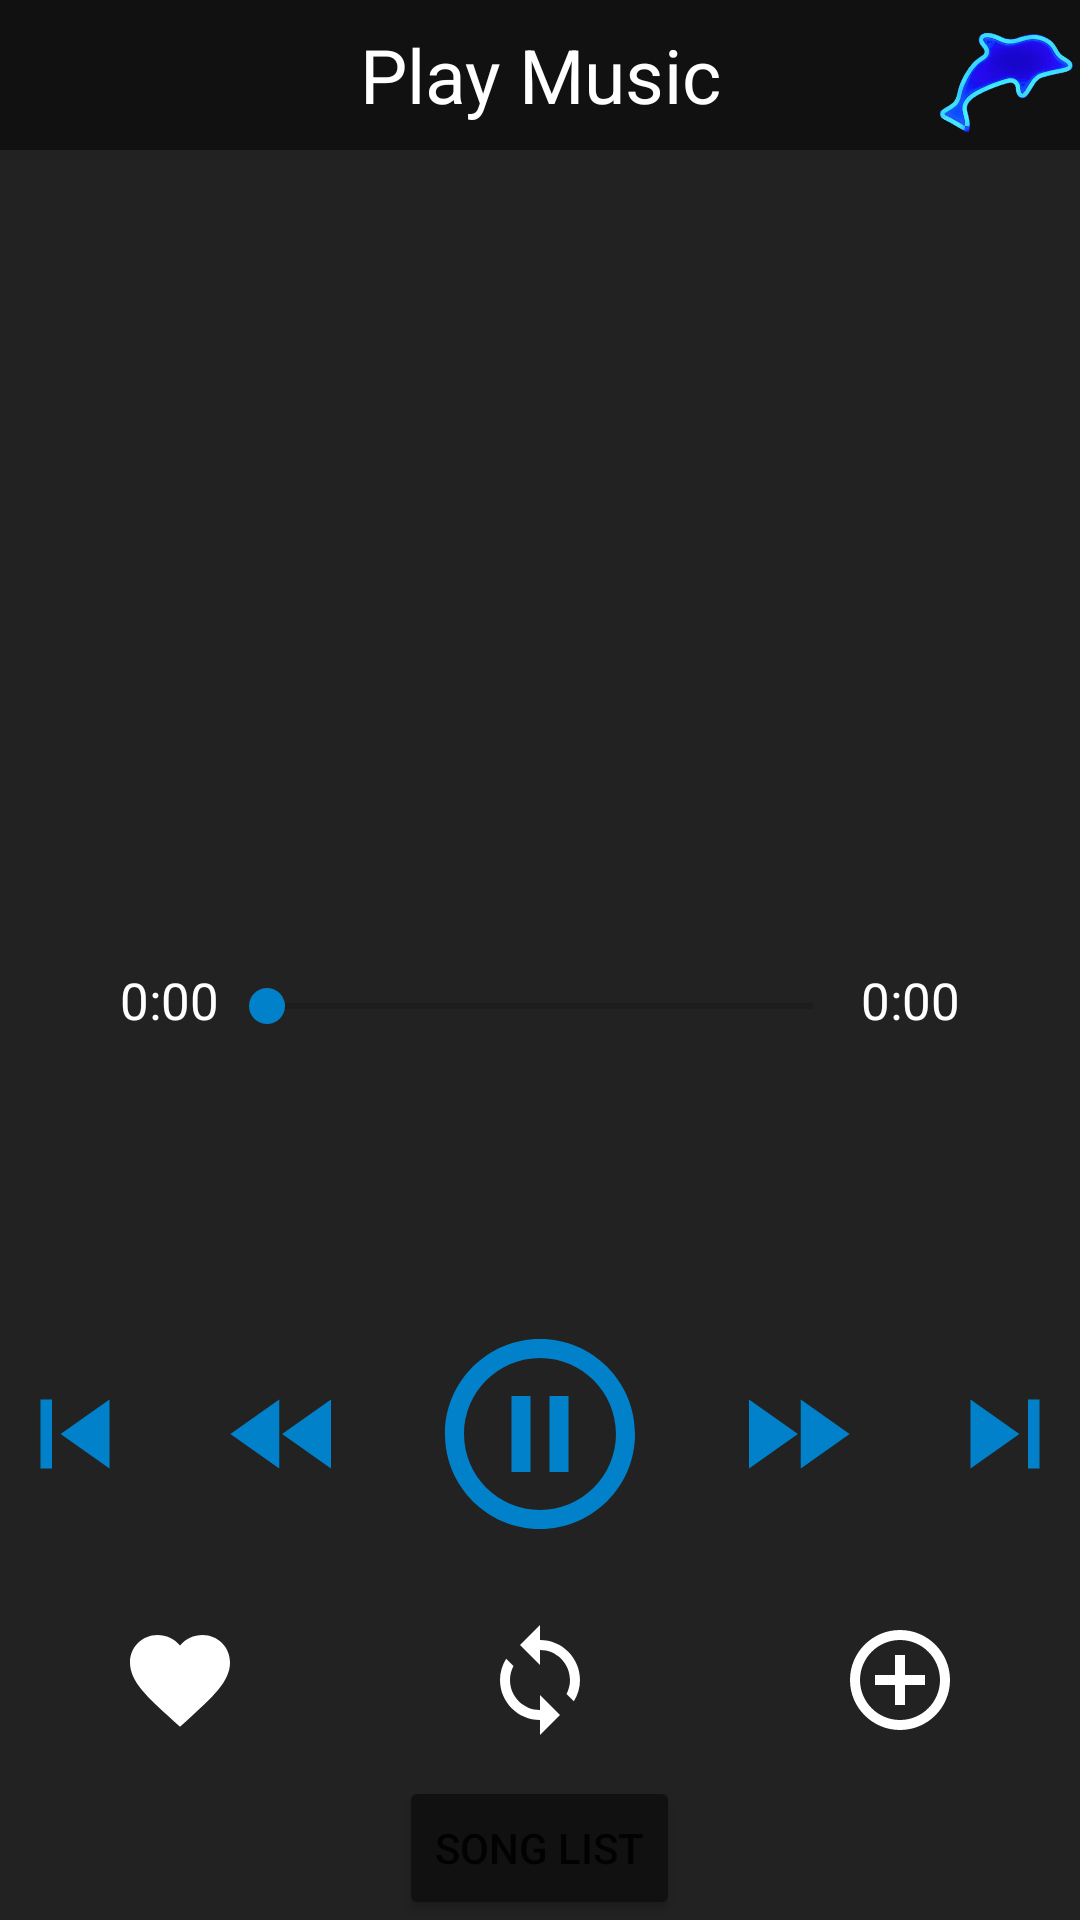

Screen size 1080px x 1920px. Icon name, then its box in pixels as (x1, y1, x2, y2):
add: (850, 1630, 950, 1730)
fast forward: (749, 1399, 849, 1469)
fast rewind: (231, 1399, 331, 1469)
favorite: (130, 1635, 230, 1727)
loop: (500, 1625, 580, 1735)
